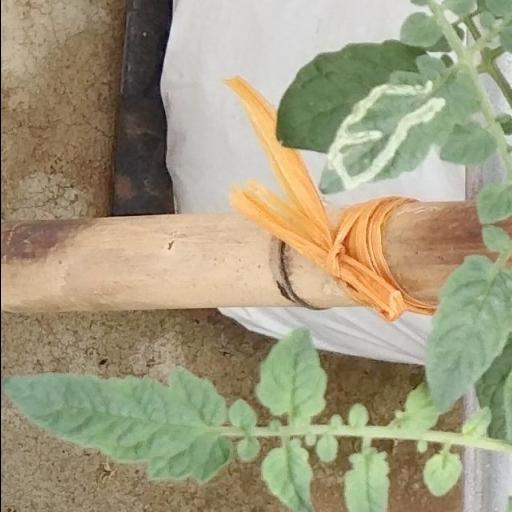Leaf Miner: (316, 54, 485, 196)
